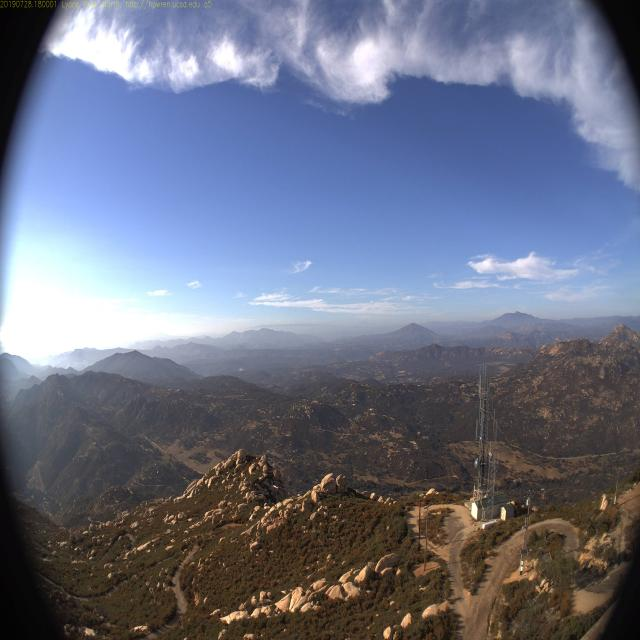smoke: (62, 356, 92, 379)
